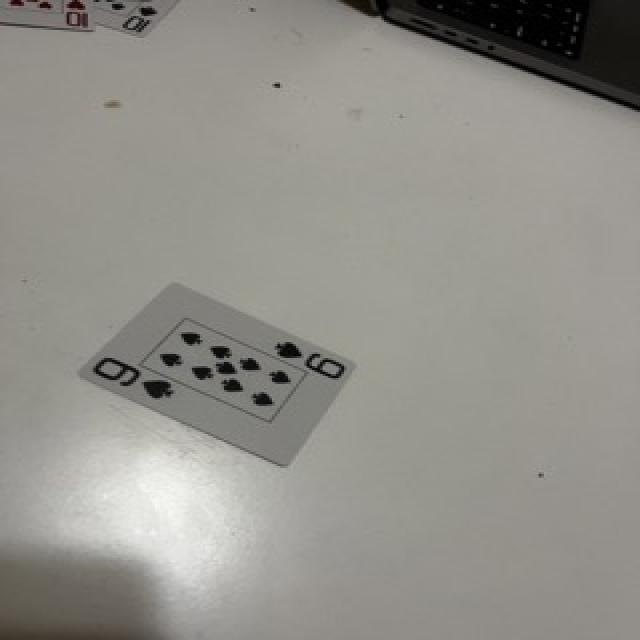9 of spades: (82, 284, 353, 465)
